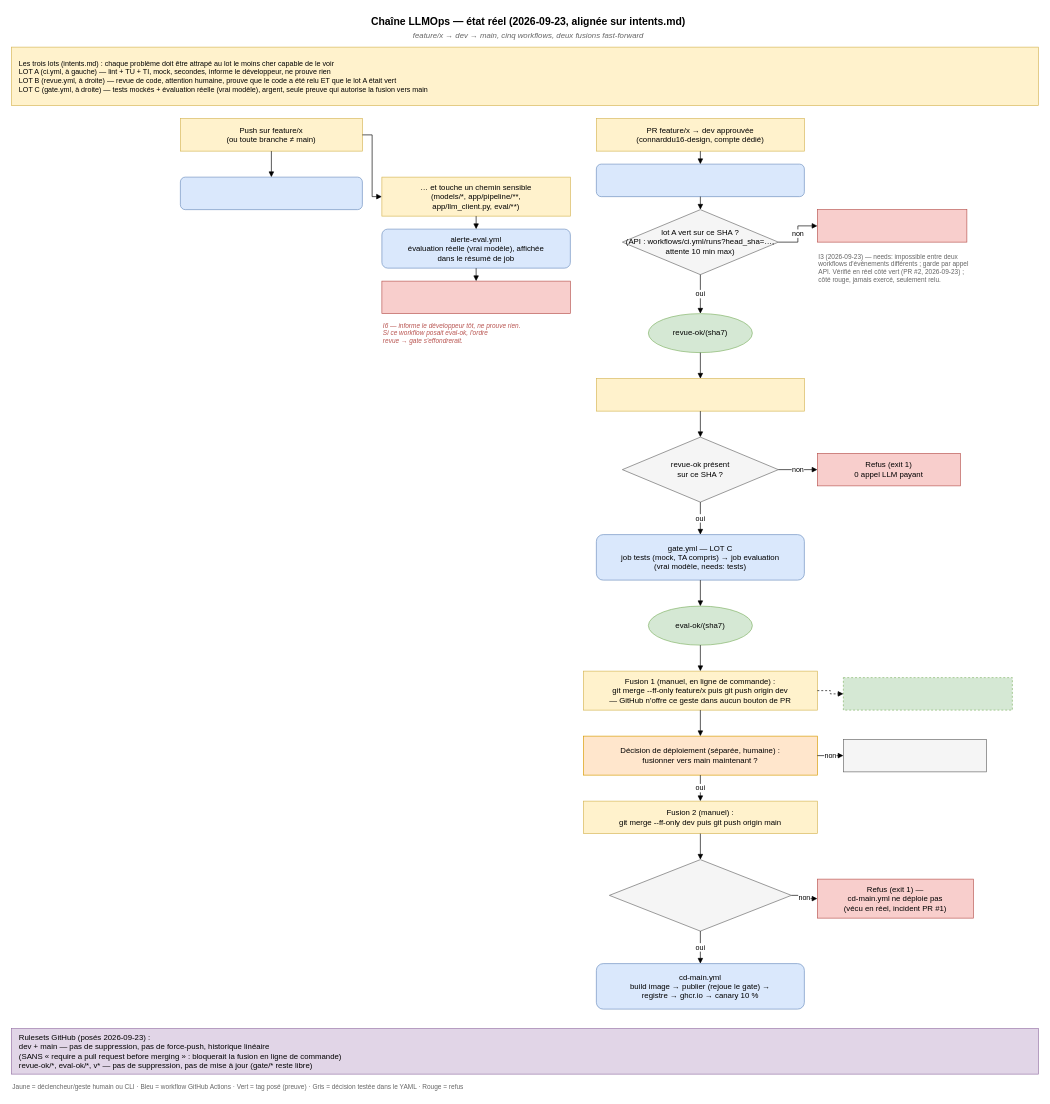
Some shapes in this 1050 by 1104 pixel diagram are drawn without their labels. Here are the shapes that lost their labels. From the top down, the box of each, then its label:
(180, 176, 362, 210): ci.yml — LOT A lint + TU + TI (mock)
(596, 163, 804, 197): revue.yml — LOT B preuve de revue
(817, 209, 967, 242): Refus — pas de revue-ok (lot A rouge ou pas conclu)
(381, 280, 570, 314): SIGNAL SEUL — aucun tag, aucun jeton d'écriture
(596, 378, 804, 411): Développeur pousse le tag gate/(sha7) — manuel, quand il veut
(843, 677, 1012, 710): dev = (sha7) gelé (revue-ok + eval-ok dessus)
(843, 739, 986, 772): pas maintenant : dev reste en attente, gelé, prêt
(609, 859, 791, 931): revue-ok ET eval-ok présents sur github.sha ?
